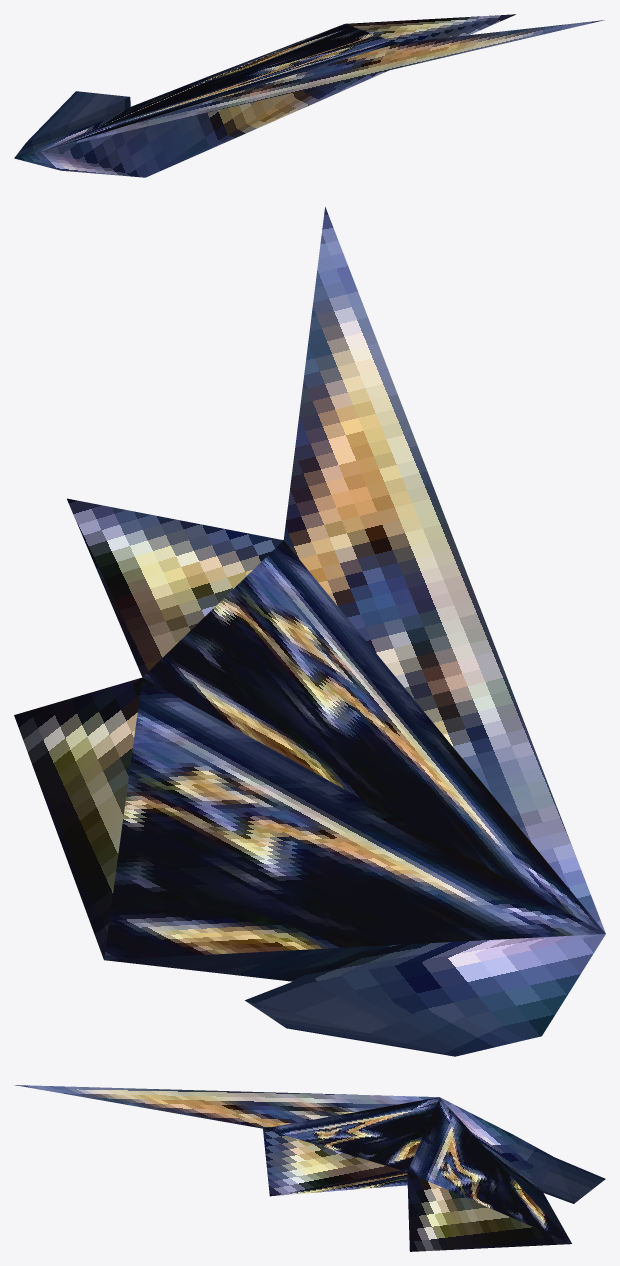
3 renders of one model, top to bottom at view 1: azimuth 30°, elevation 25°; view 2: azimuth 150°, elevation 25°; view 3: azimuth 270°, elevation 25°, orthographic. The views are drawn at different scales.
Parts seen in each view (by area): view 1: model_FR_1; view 2: model_FR_1; view 3: model_FR_1.
Part boxes in pixels (left/top/right/bottom): model_FR_1: left=14, top=14, right=604, bottom=177; model_FR_1: left=14, top=207, right=605, bottom=1056; model_FR_1: left=15, top=1085, right=605, bottom=1251.
Bounding box in the file's own units: 0.5548 × 0.3166 × 0.6783.
Materials: 1 (1 with a texture image).
